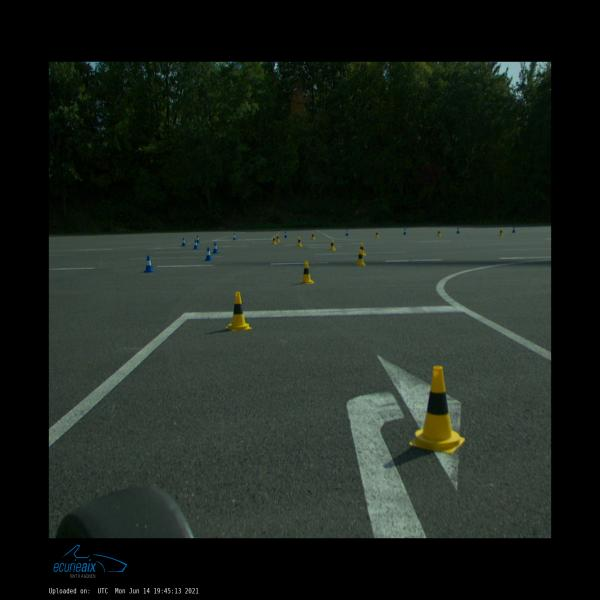blue_cone: (144, 256, 154, 273), (204, 247, 213, 260), (212, 243, 219, 253), (193, 240, 198, 249), (182, 238, 186, 246), (232, 233, 236, 240), (196, 235, 200, 242), (512, 226, 516, 232), (403, 228, 407, 234), (345, 230, 349, 236), (284, 231, 287, 238), (456, 228, 459, 234)
yellow_cone: (410, 367, 464, 454), (226, 292, 251, 332), (300, 262, 315, 284), (356, 250, 366, 265), (358, 243, 365, 255), (329, 240, 336, 251), (271, 235, 277, 244), (297, 237, 302, 246), (499, 228, 503, 236), (437, 228, 441, 236), (276, 234, 280, 242), (375, 231, 379, 238), (312, 232, 315, 239)
